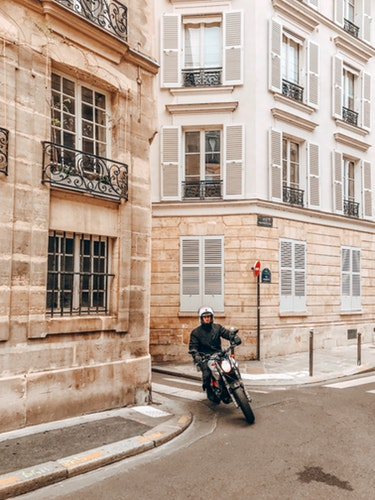helmet: (199, 308, 220, 329)
